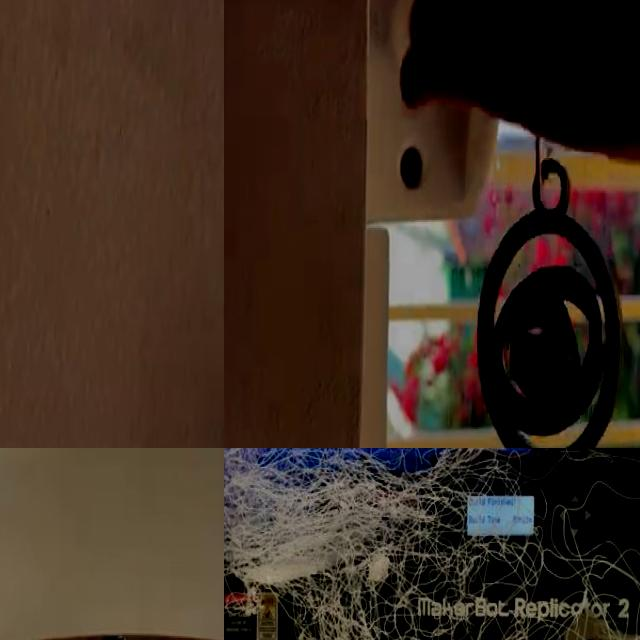spaghetti: (224, 448, 640, 640)
